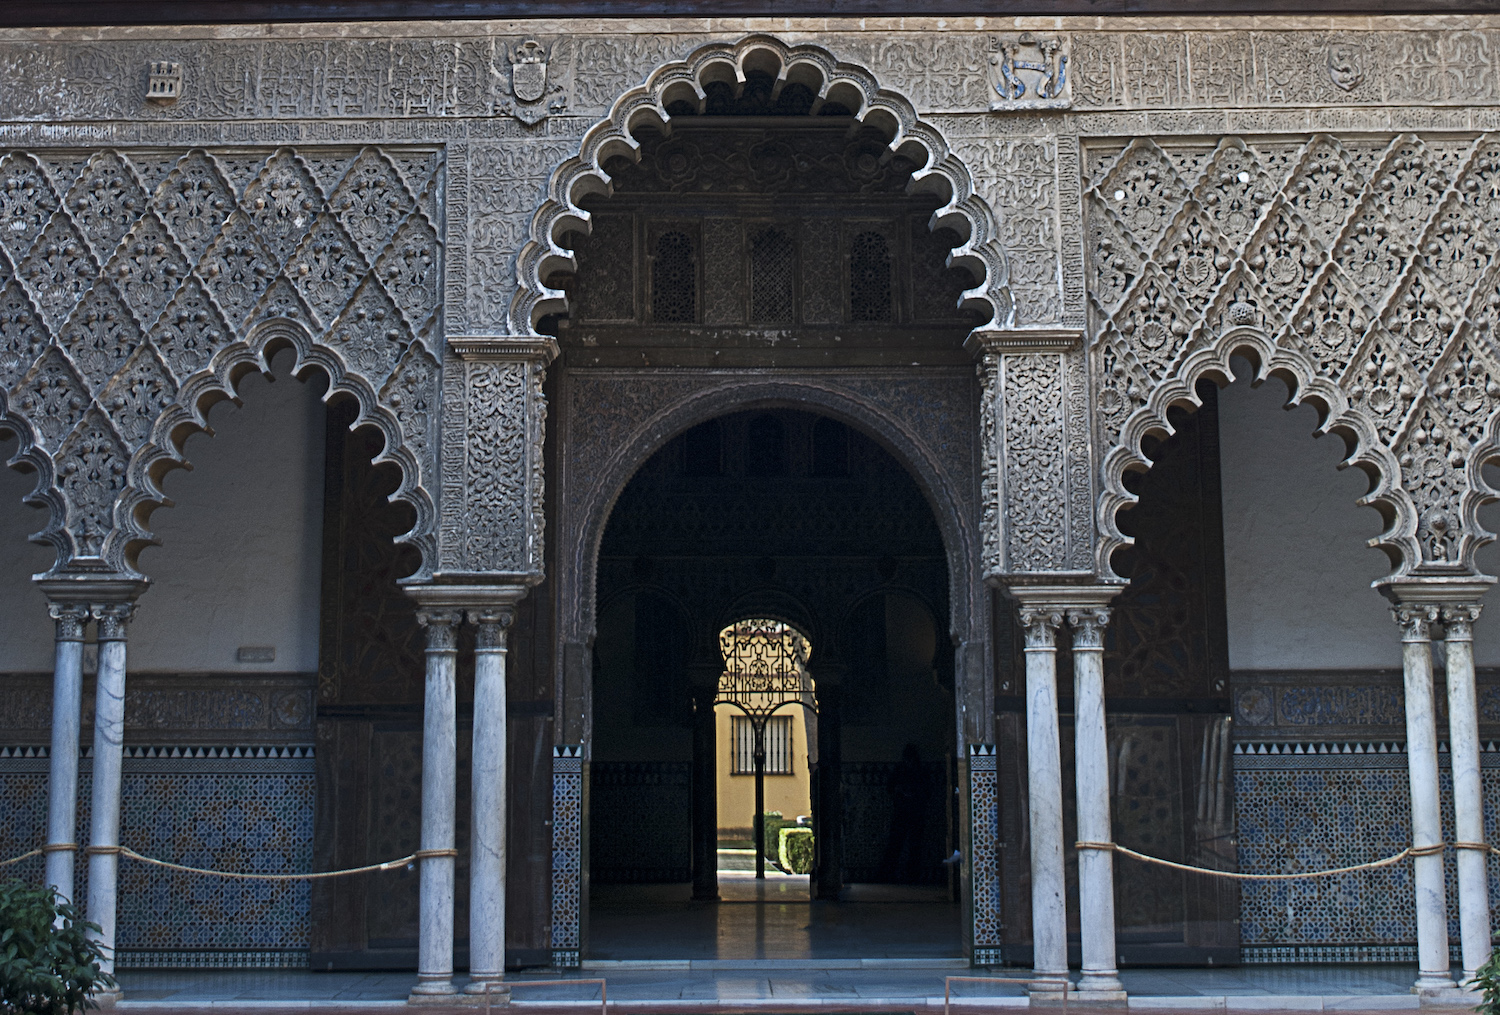arco-lobulado: (508, 29, 1016, 368), (1079, 307, 1424, 640), (112, 310, 448, 636)
